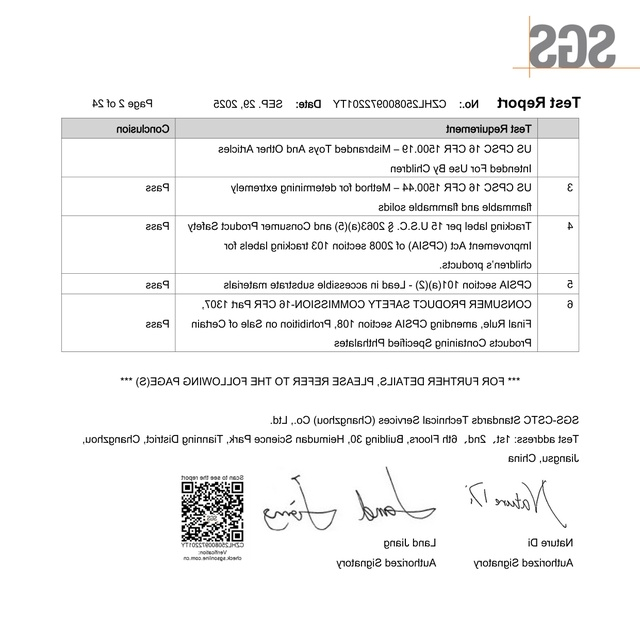sgs: (529, 24, 615, 68)
